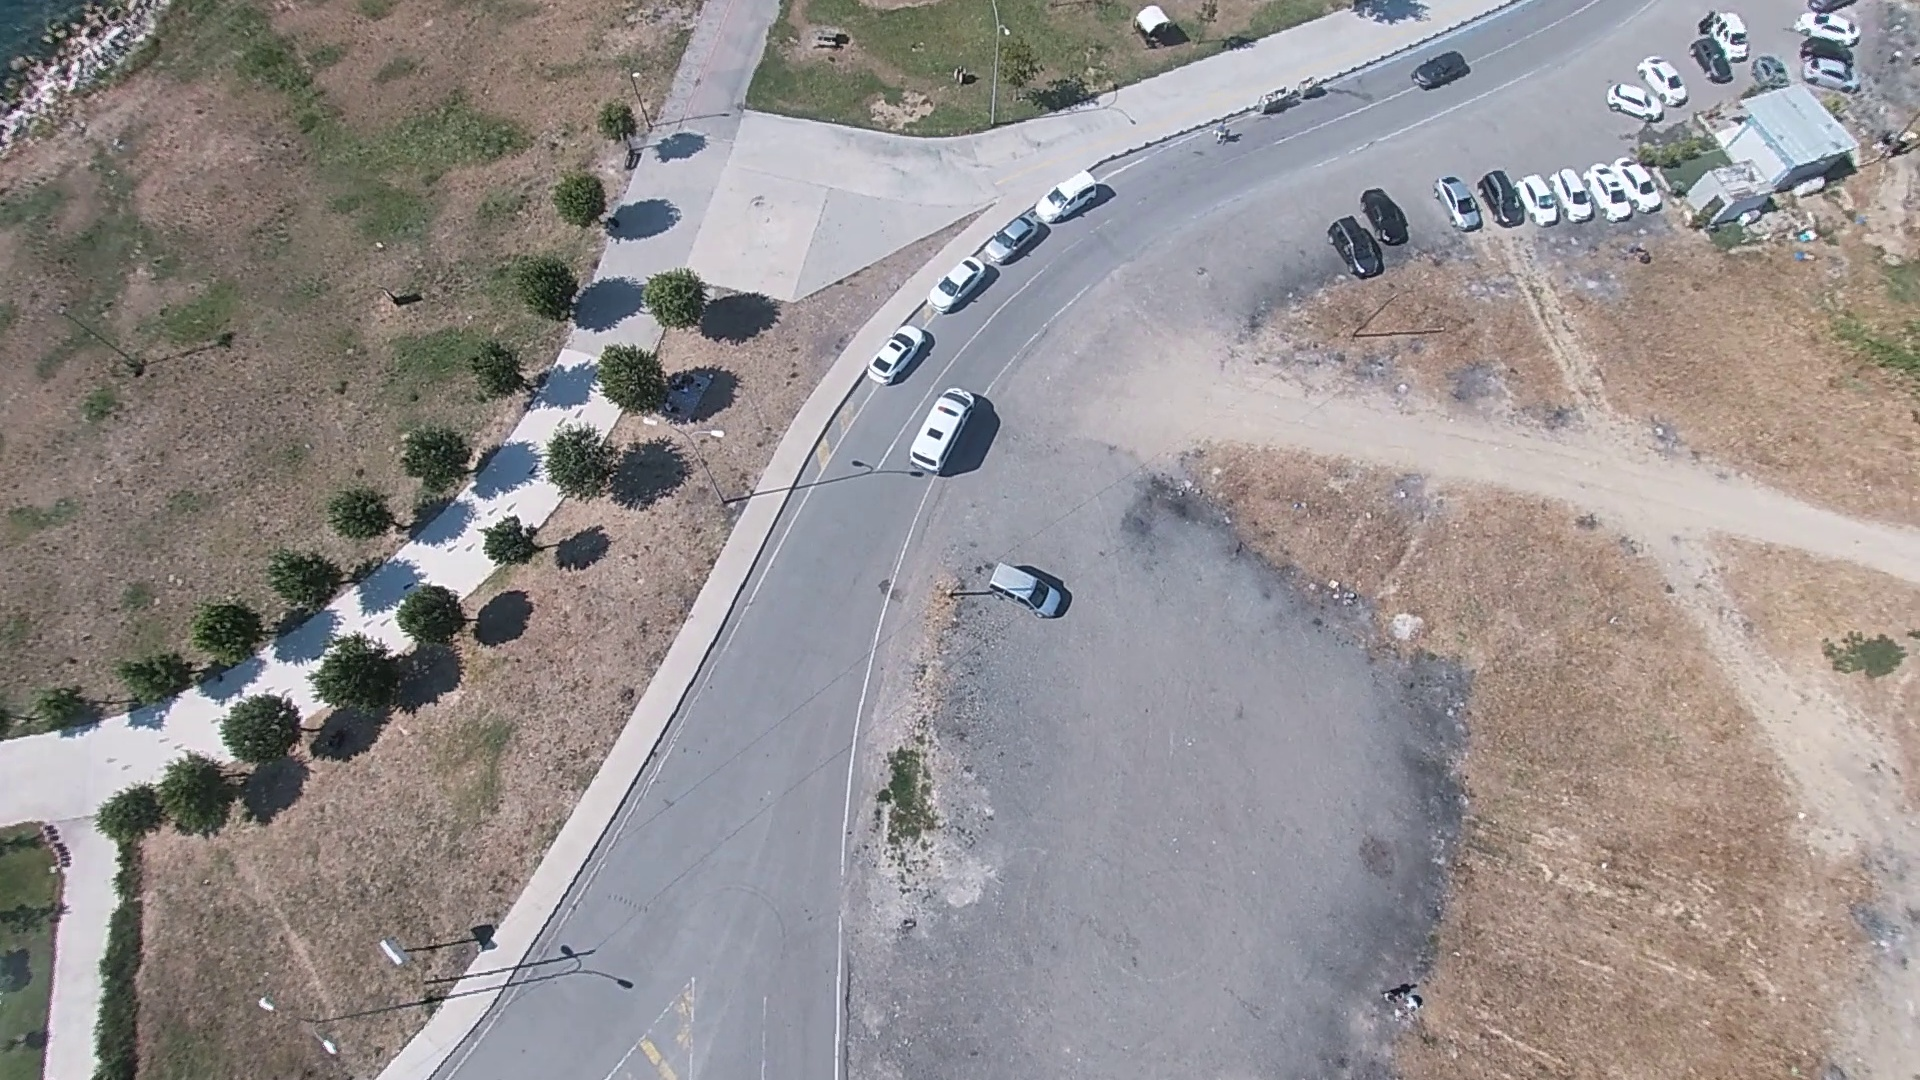arac: (904, 382, 980, 475), (985, 560, 1075, 620), (868, 319, 934, 386), (1367, 184, 1419, 243), (1135, 2, 1184, 49)
insan: (464, 923, 501, 959)
